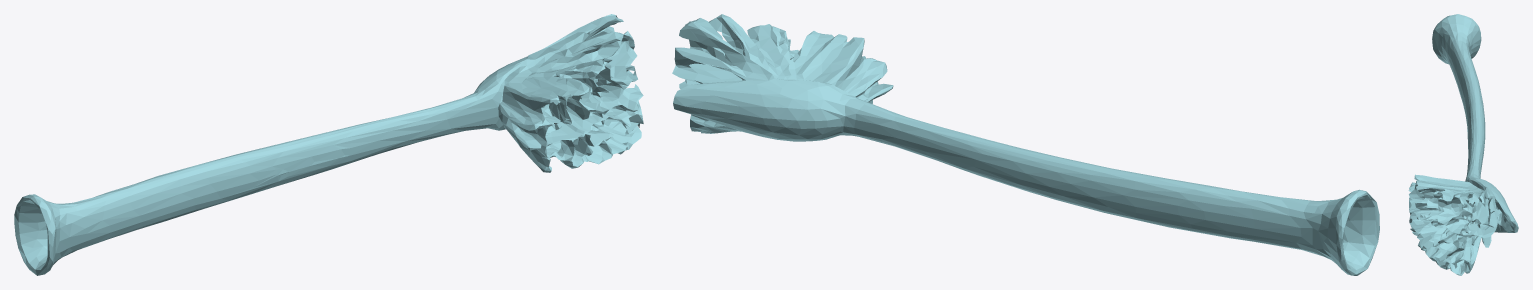
Rendered from green_brush.obj.
3 views of the same model, side by side, from view 1: azimuth 30°, elevation 25°; view 2: azimuth 150°, elevation 25°; view 3: azimuth 270°, elevation 25° (orthographic). The views are drawn at different scales.
Parts seen in each view (by area): view 1: geometry_0; view 2: geometry_0; view 3: geometry_0.
Part boxes in pixels (<box>): geometry_0: <box>14,14,643,275</box>; geometry_0: <box>672,14,1379,275</box>; geometry_0: <box>1408,14,1518,275</box>.
Size of the model in its own units: 0.2699 by 0.0489 by 0.062.
